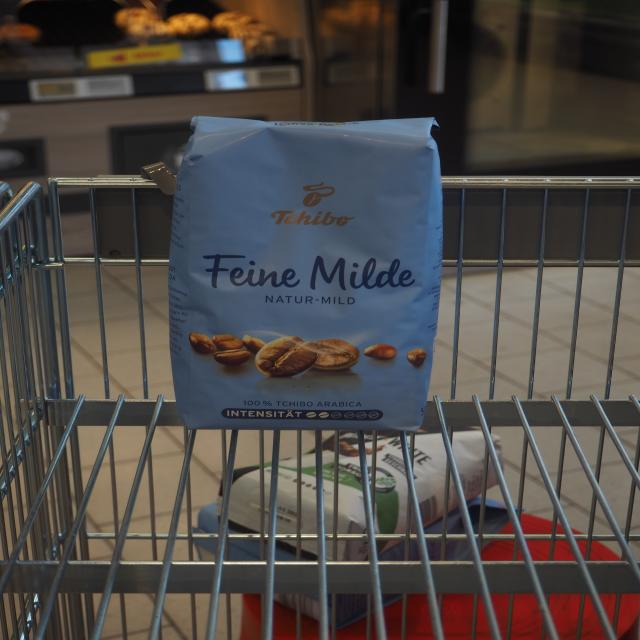FM Bohne: (164, 110, 448, 437)
